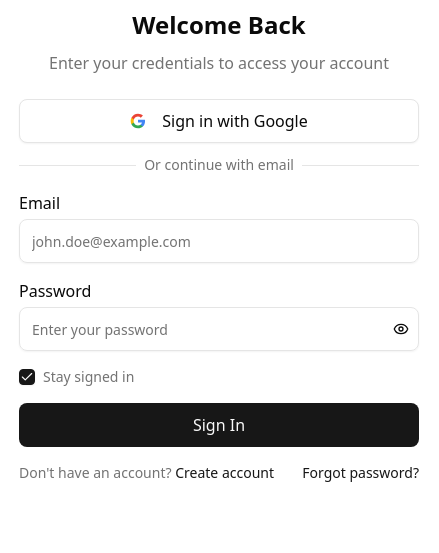
Test: LoginForm › shows error when fields empty on submit
The width and height of the screenshot is (439, 553).
Click the button "Sign In".
click(219, 425)  # box left=19, top=403, right=419, bottom=447
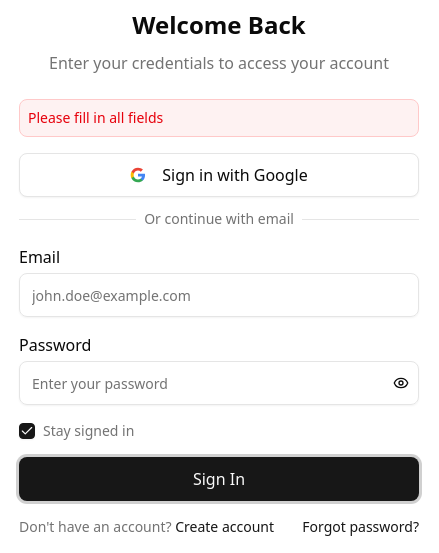
Check: the text "Please fill in all fields" is shown, box left=19, top=99, right=419, bottom=137
